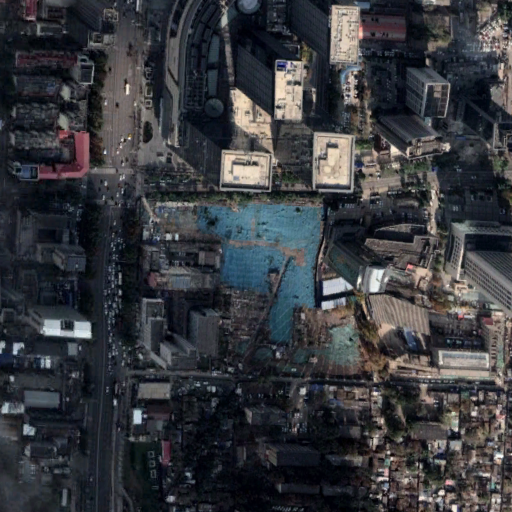cw: (194, 201, 362, 378)
